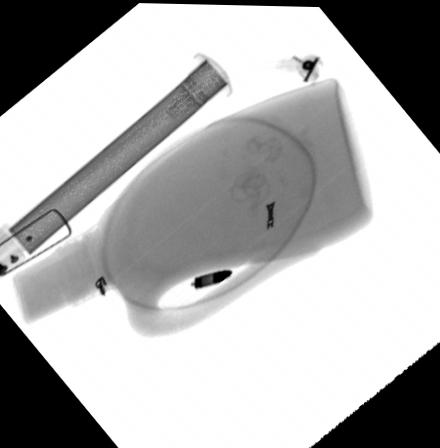Bullet: (190, 266, 236, 289)
